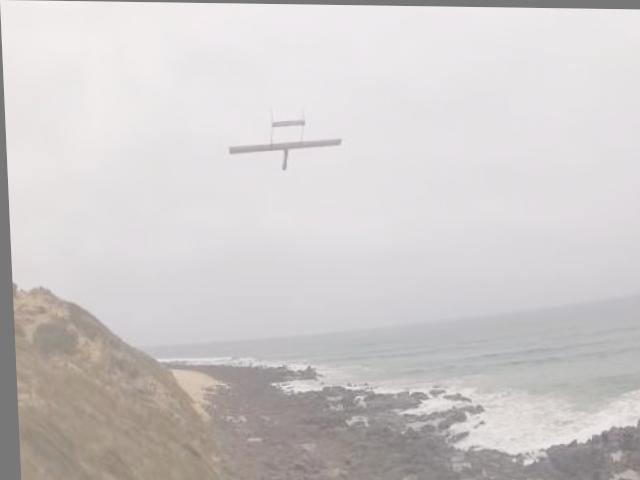uav: (220, 96, 353, 181)
